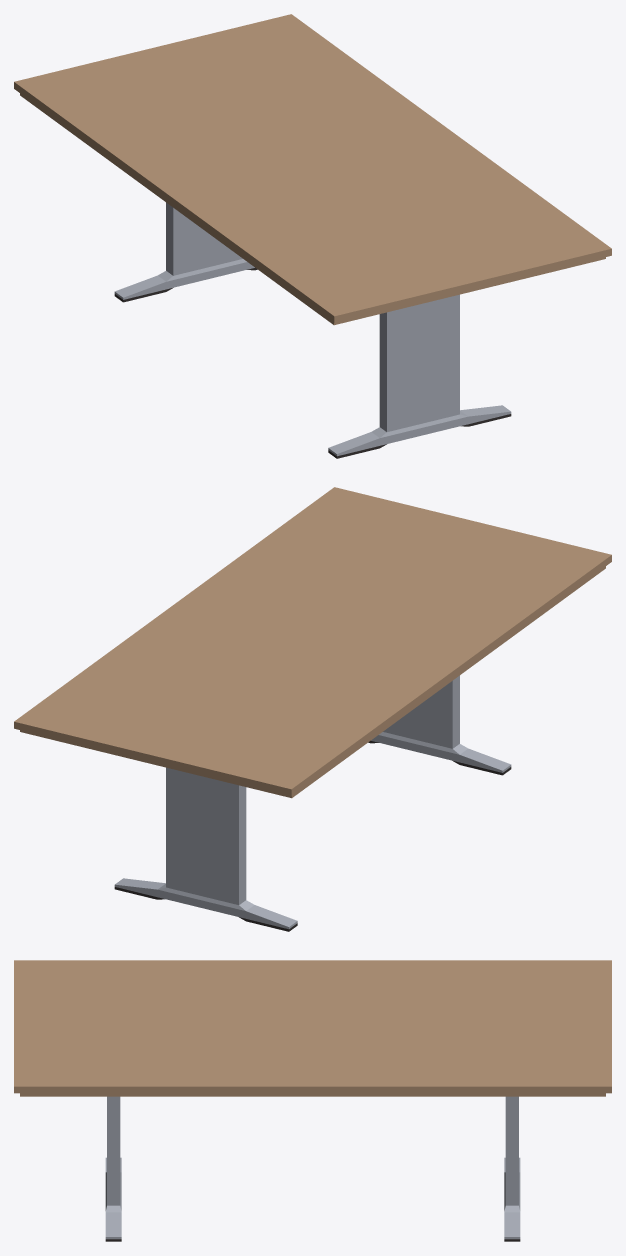
Rendered from ConferenceRoomTable.fbx.
3 views of the same model, one above another, from view 1: azimuth 30°, elevation 25°; view 2: azimuth 150°, elevation 25°; view 3: azimuth 270°, elevation 25° (orthographic). The views are drawn at different scales.
Parts seen in each view (by area): view 1: ConferenceTable; view 2: ConferenceTable; view 3: ConferenceTable.
Part boxes in pixels (x1,y1,x2,y2): ConferenceTable: (14,14,611,458); ConferenceTable: (14,487,611,931); ConferenceTable: (14,960,611,1241).
Bounding box in the file's own units: 1.35 × 0.888 × 2.7.
